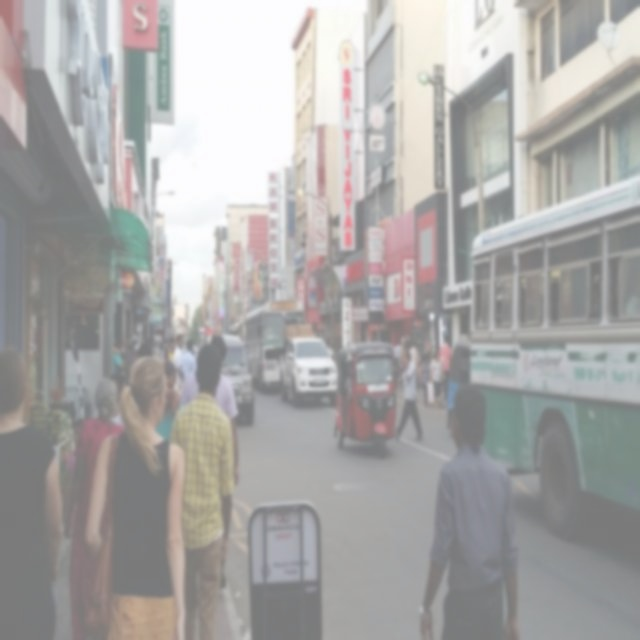pessoa: (81, 353, 190, 639), (418, 380, 522, 639), (168, 342, 236, 640), (0, 343, 65, 639), (62, 376, 126, 640), (177, 333, 240, 488), (61, 416, 87, 536), (394, 349, 424, 442), (154, 358, 184, 442), (108, 330, 157, 373), (430, 348, 446, 410), (437, 335, 452, 400), (176, 337, 197, 382), (622, 268, 640, 320), (172, 332, 185, 397), (418, 352, 431, 410), (408, 342, 422, 392), (548, 275, 562, 323), (518, 286, 531, 322), (478, 290, 490, 328), (398, 336, 406, 389), (119, 338, 136, 361), (324, 340, 340, 360), (161, 342, 171, 366), (168, 336, 176, 363), (393, 340, 400, 370), (400, 338, 410, 357)
